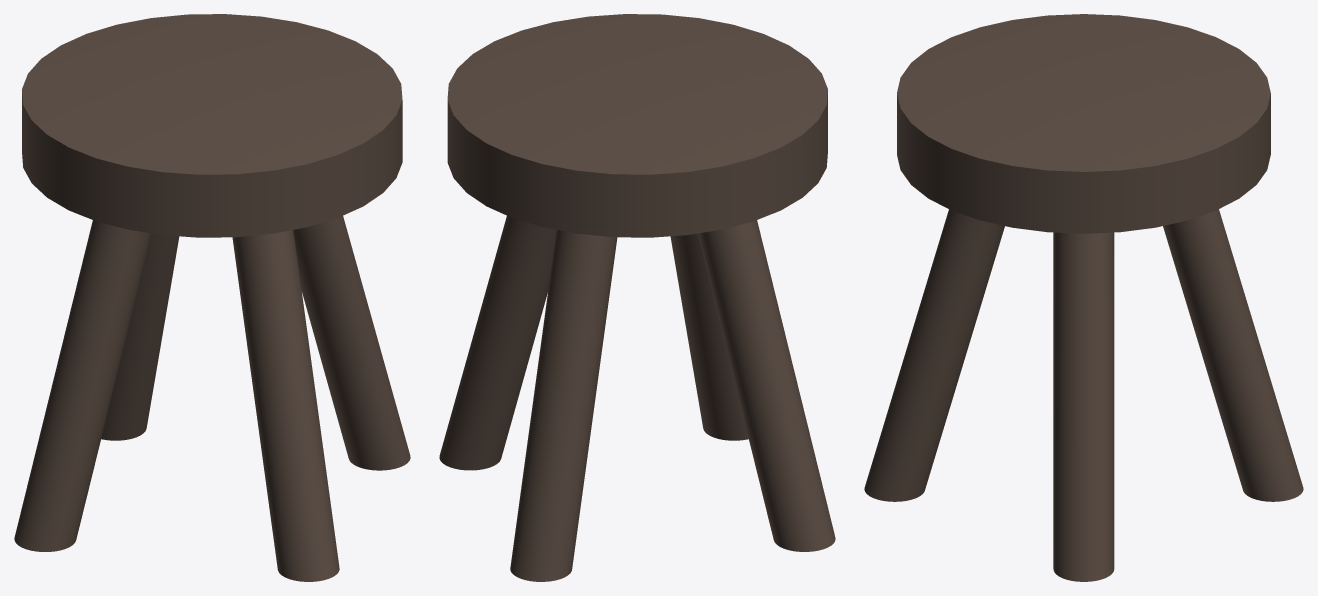
The model's file is Tabouret1_2.fbx.
3 renders of one model, left to right at view 1: azimuth 30°, elevation 25°; view 2: azimuth 150°, elevation 25°; view 3: azimuth 270°, elevation 25°, orthographic.
Visible parts, largest first — view 1: pCylinder1599, pCylinder1632; view 2: pCylinder1599, pCylinder1632; view 3: pCylinder1599, pCylinder1632.
Part boxes in pixels (left/top/right/bottom): pCylinder1599: left=22, top=14, right=402, bottom=237; pCylinder1632: left=14, top=216, right=410, bottom=581; pCylinder1599: left=447, top=14, right=827, bottom=237; pCylinder1632: left=439, top=216, right=835, bottom=581; pCylinder1599: left=897, top=14, right=1270, bottom=233; pCylinder1632: left=864, top=209, right=1303, bottom=581.
Size of the model in its own units: 41.39 by 42.19 by 41.38.
